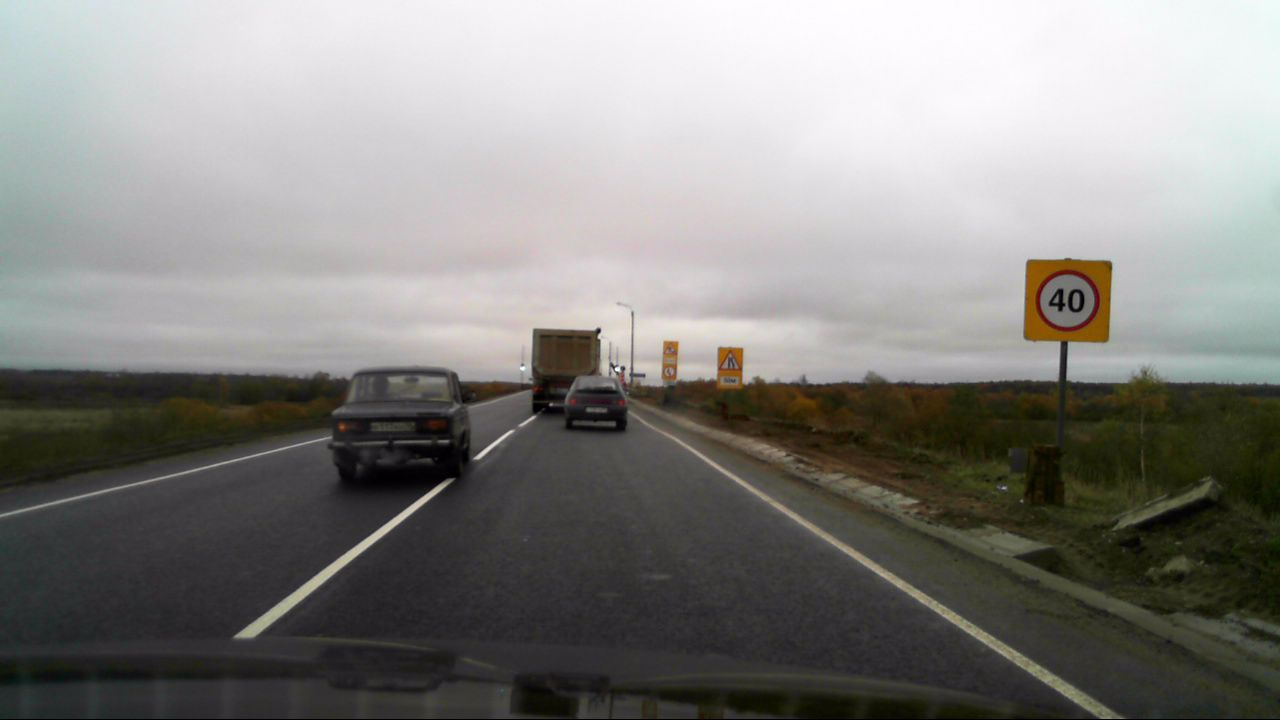speed_warning_40: (1024, 257, 1111, 343)
